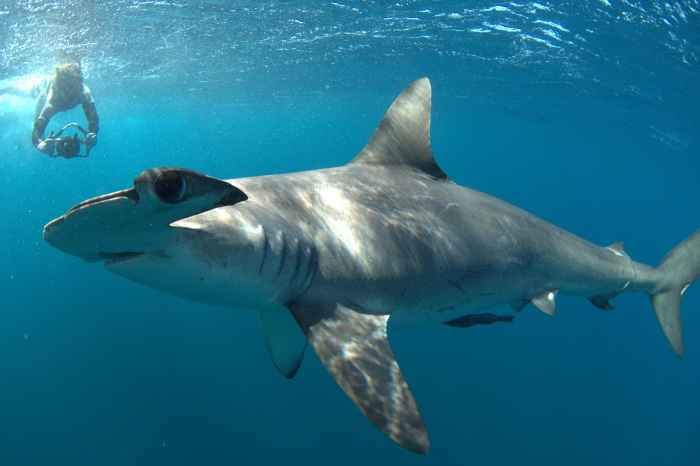Hammer: (26, 64, 700, 453)
